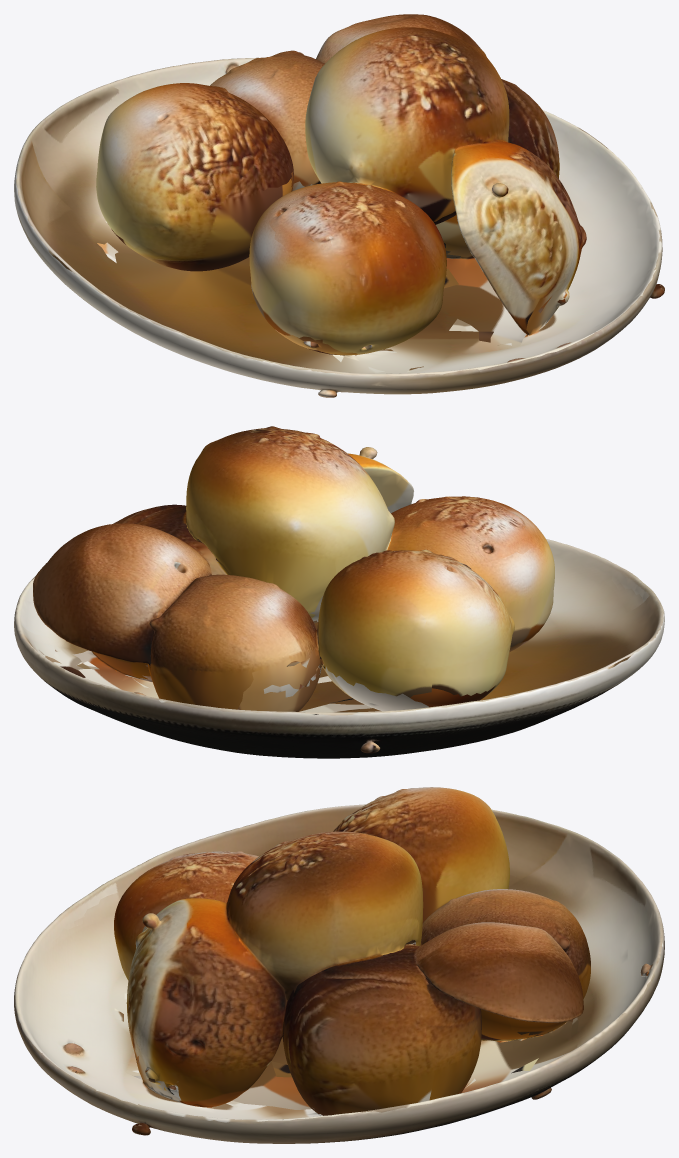
The model's file is fr0aqs2o.glb.
3 views of the same model, one above another, from view 1: azimuth 30°, elevation 25°; view 2: azimuth 150°, elevation 25°; view 3: azimuth 270°, elevation 25° (orthographic).
Visible parts, largest first — view 1: Baked Bun; view 2: Baked Bun; view 3: Baked Bun.
Part boxes in pixels (x1=…): Baked Bun: x1=14, y1=14, x2=664, y2=397; Baked Bun: x1=14, y1=426, x2=664, y2=758; Baked Bun: x1=14, y1=787, x2=664, y2=1143.
Size of the model in its own units: 0.2144 by 0.09 by 0.2149.
Materials: 1 (1 with a texture image).
